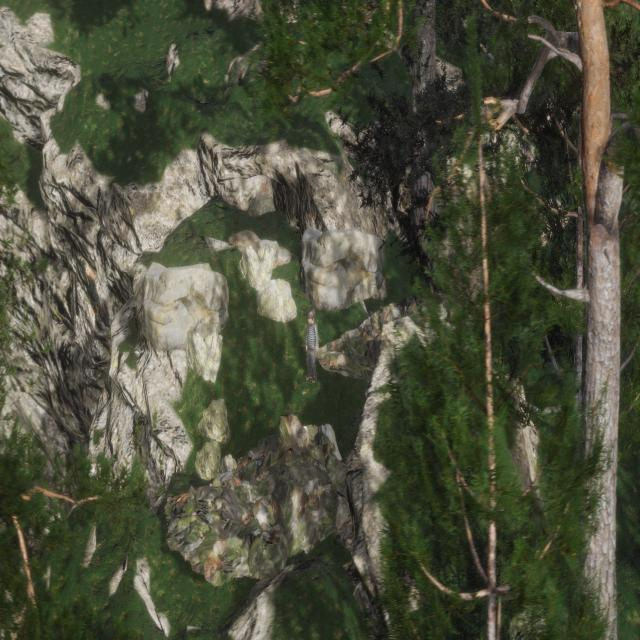Human: (298, 295, 323, 400)
